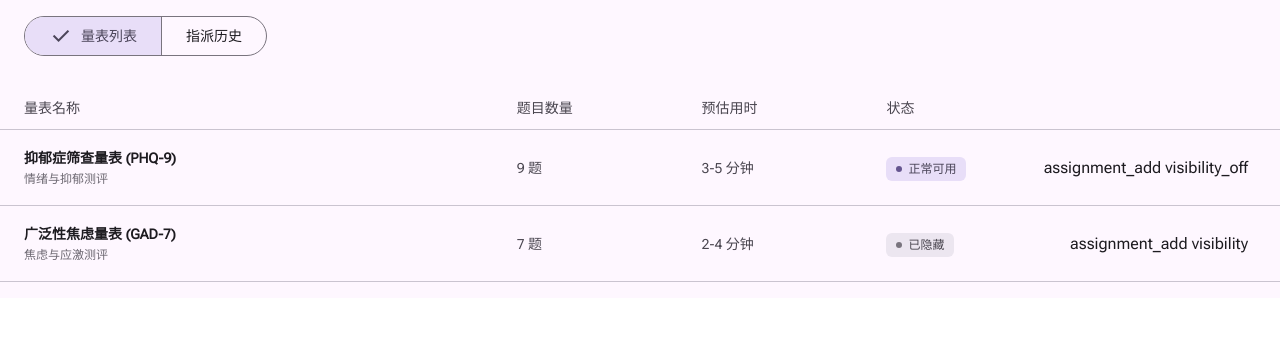
Test: AssessmentCatalogManagementView › switches between catalog table and history view via segmented button
The image size is (1280, 339).
Expected: the text "抑郁症筛查量表 (PHQ-9)" is shown, [24,150,176,166]
What coordinates should you click on to do the following:
click the button "指派历史"
I would click on:
 (214, 36)
Its box is [162,17,266,55].
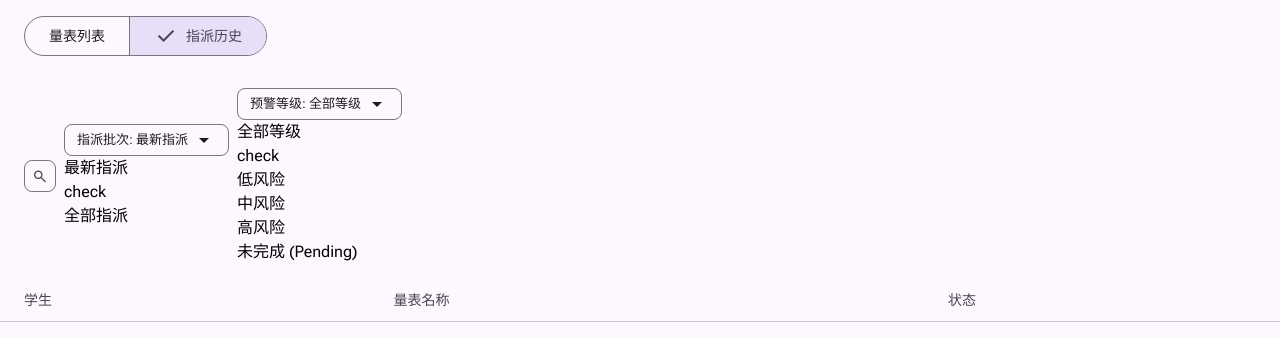
Expected: the button "指派批次: 最新指派" is shown, [64,124,229,156]
Expected: the text "抑郁症筛查量表 (PHQ-9)" is gone
What coordinates should you click on to do the following:
click the button "量表列表"
I would click on:
 (78, 36)
Its box is [25,17,130,55].
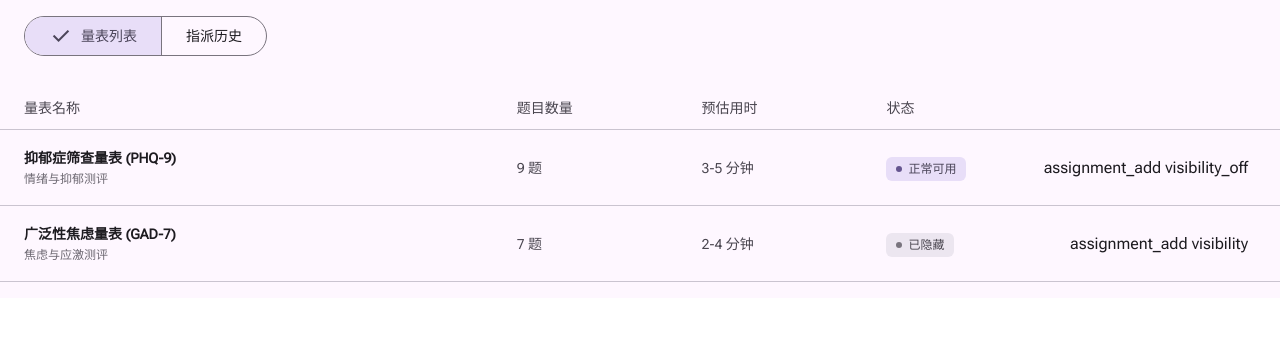
Expected: the text "抑郁症筛查量表 (PHQ-9)" is shown, [24,150,176,166]
